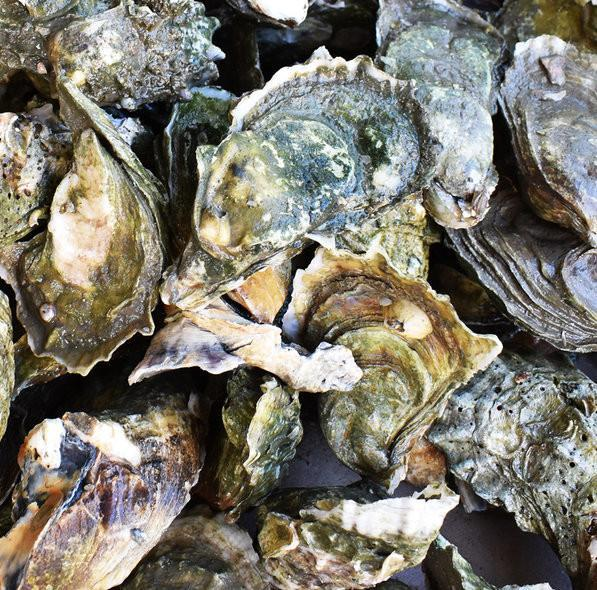Oyster-Closed: (59, 82, 173, 268), (500, 36, 597, 245), (165, 299, 363, 393), (195, 374, 303, 516), (335, 196, 443, 281), (131, 319, 245, 384), (421, 536, 558, 590), (229, 259, 293, 324), (221, 367, 261, 449), (564, 244, 597, 315), (256, 513, 297, 555)
Oyster-Open: (163, 56, 443, 315), (286, 246, 504, 491), (0, 338, 208, 590), (0, 129, 165, 378), (427, 350, 597, 589), (374, 0, 507, 227), (446, 174, 597, 352), (238, 484, 459, 590), (48, 0, 229, 108), (153, 87, 241, 259), (108, 506, 269, 590), (226, 0, 310, 32), (0, 291, 15, 455)
